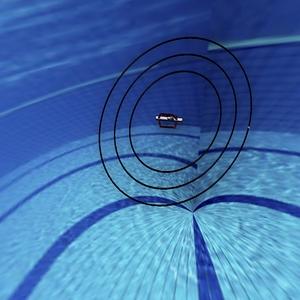circle: (93, 25, 259, 210)
submarine: (149, 103, 189, 141)
